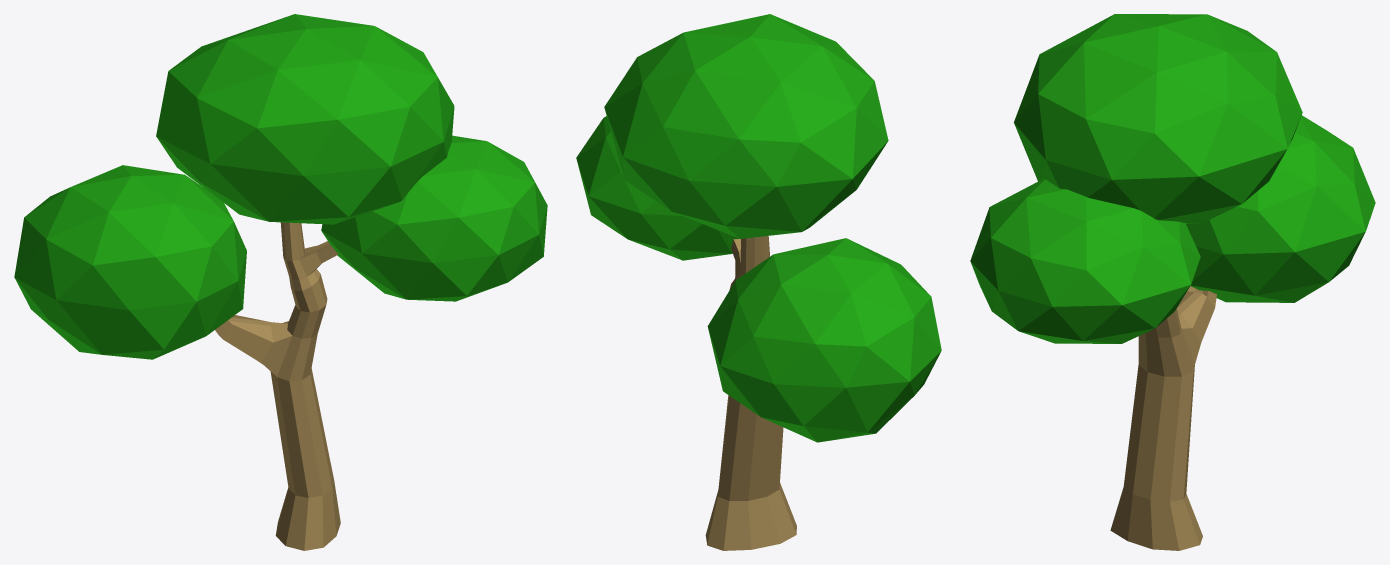
File: Дерево№2.fbx
The picture shows the model from 3 angles, left to right: view 1: azimuth 30°, elevation 25°; view 2: azimuth 150°, elevation 25°; view 3: azimuth 270°, elevation 25°; orthographic projection.
Parts seen in each view (by area): view 1: Дерево №2; view 2: Дерево №2; view 3: Дерево №2.
Part boxes in pixels (x1=…): Дерево №2: x1=14, y1=14, x2=547, y2=550; Дерево №2: x1=576, y1=14, x2=941, y2=550; Дерево №2: x1=970, y1=14, x2=1375, y2=550.
Size of the model in its own units: 1890 by 2159 by 1562.
